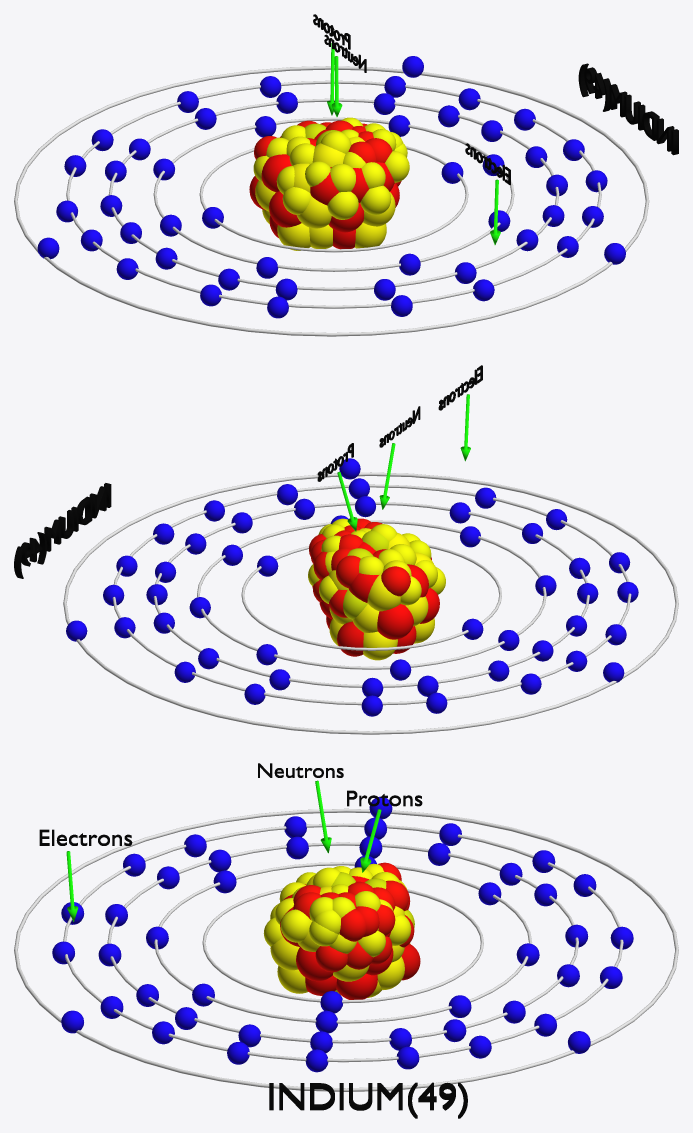
The model's file is Indium Atomic Model.gltf.
3 renders of one model, top to bottom at view 1: azimuth 30°, elevation 25°; view 2: azimuth 150°, elevation 25°; view 3: azimuth 270°, elevation 25°, orthographic. The views are drawn at different scales.
Parts seen in each view (by area): view 1: Sphere.012, Torus.004, Torus.003, Torus.002, Text.003, Torus.001, Torus, Text, Sphere.015; view 2: Sphere.012, Torus.004, Torus.003, Torus.002, Text.003, Torus.001, Torus, Sphere.016; view 3: Sphere.012, Torus.004, Torus.003, Torus.002, Text.003, Torus.001, Torus, Text, Sphere.057, Sphere.009, Text.002, Text.001.
Part boxes in pixels (x1,y1,x2,y2): Sphere.012: [249, 120, 409, 250]; Torus.004: [14, 66, 649, 336]; Torus.003: [66, 80, 601, 308]; Torus.002: [108, 98, 559, 290]; Text.003: [578, 63, 678, 155]; Torus.001: [153, 117, 514, 271]; Torus: [199, 146, 468, 252]; Text: [465, 143, 510, 184]; Sphere.015: [305, 161, 330, 186]; Sphere.012: [308, 518, 445, 660]; Torus.004: [63, 472, 678, 734]; Torus.003: [112, 484, 631, 705]; Torus.002: [153, 502, 589, 687]; Text.003: [14, 483, 111, 578]; Torus.001: [197, 520, 546, 669]; Torus: [241, 544, 501, 650]; Sphere.016: [381, 566, 410, 596]; Sphere.012: [263, 863, 420, 999]; Torus.004: [14, 808, 678, 1091]; Torus.003: [63, 823, 623, 1062]; Torus.002: [107, 842, 578, 1043]; Text.003: [269, 1082, 467, 1118]; Torus.001: [154, 862, 531, 1023]; Torus: [202, 888, 483, 1003]; Text: [39, 829, 132, 845]; Sphere.057: [339, 909, 366, 941]; Sphere.009: [315, 946, 347, 972]; Text.002: [347, 790, 422, 806]; Text.001: [258, 763, 343, 777].
Size of the model in its own units: 6.28 by 2.2 by 5.89.
